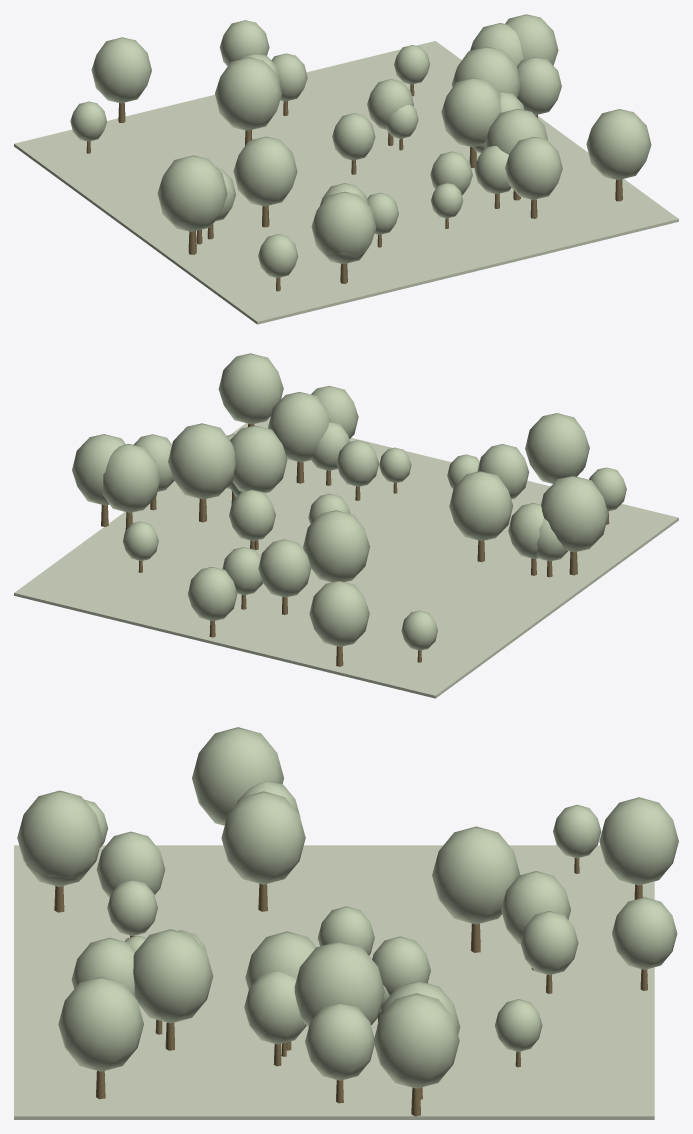
3 renders of one model, top to bottom at view 1: azimuth 30°, elevation 25°; view 2: azimuth 150°, elevation 25°; view 3: azimuth 270°, elevation 25°, orthographic. The views are drawn at different scales.
Visible parts, largest first — view 1: terrain, lod-near-19, lod-near-1, lod-near-20, lod-near-10, lod-near-9, lod-near-22, lod-near-11, lod-near-16, lod-near-8, lod-near-12, lod-near-27 (+14 smaller); view 2: terrain, lod-near-8, lod-near-19, lod-near-1, lod-near-20, lod-near-10, lod-near-9, lod-near-13, lod-near-11, lod-near-27, lod-near-22, lod-near-31 (+17 smaller); view 3: terrain, lod-near-1, lod-near-5, lod-near-20, lod-near-10, lod-near-27, lod-near-9, lod-near-19, lod-near-11, lod-near-8, lod-near-12, lod-near-29 (+13 smaller).
Boxes of the visible parts, <box> form: terrain: <box>14,41,678,324</box>; lod-near-19: <box>157,155,227,231</box>; lod-near-1: <box>215,57,281,130</box>; lod-near-20: <box>586,109,651,179</box>; lod-near-10: <box>233,136,297,206</box>; lod-near-9: <box>311,191,376,255</box>; lod-near-22: <box>441,78,501,147</box>; lod-near-11: <box>91,37,151,103</box>; lod-near-16: <box>505,137,562,199</box>; lod-near-8: <box>451,46,521,97</box>; lod-near-12: <box>517,57,561,115</box>; lod-near-27: <box>484,109,548,154</box>; terrain: <box>14,418,678,698</box>; lod-near-8: <box>168,423,235,499</box>; lod-near-19: <box>541,476,608,552</box>; lod-near-1: <box>303,510,370,582</box>; lod-near-20: <box>218,353,283,424</box>; lod-near-10: <box>449,471,513,540</box>; lod-near-9: <box>525,413,589,482</box>; lod-near-13: <box>102,444,160,512</box>; lod-near-11: <box>309,581,369,646</box>; lod-near-27: <box>268,392,330,462</box>; lod-near-22: <box>230,425,287,492</box>; lod-near-31: <box>258,539,311,597</box>; terrain: <box>14,845,654,1119</box>; lod-near-1: <box>432,826,520,924</box>; lod-near-5: <box>373,993,459,1088</box>; lod-near-20: <box>58,976,143,1071</box>; lod-near-10: <box>221,791,305,884</box>; lod-near-27: <box>133,929,213,1023</box>; lod-near-9: <box>17,790,102,879</box>; lod-near-19: <box>192,727,283,825</box>; lod-near-11: <box>599,797,678,885</box>; lod-near-8: <box>294,941,384,1027</box>; lod-near-12: <box>305,1002,374,1080</box>; lod-near-29: <box>612,897,677,969</box>.
Size of the model in its own units: 34.9 by 7.27 by 33.21.
